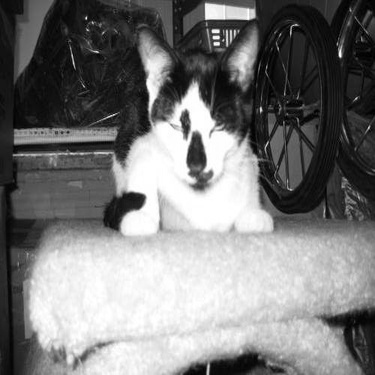cat: (91, 30, 277, 243)
